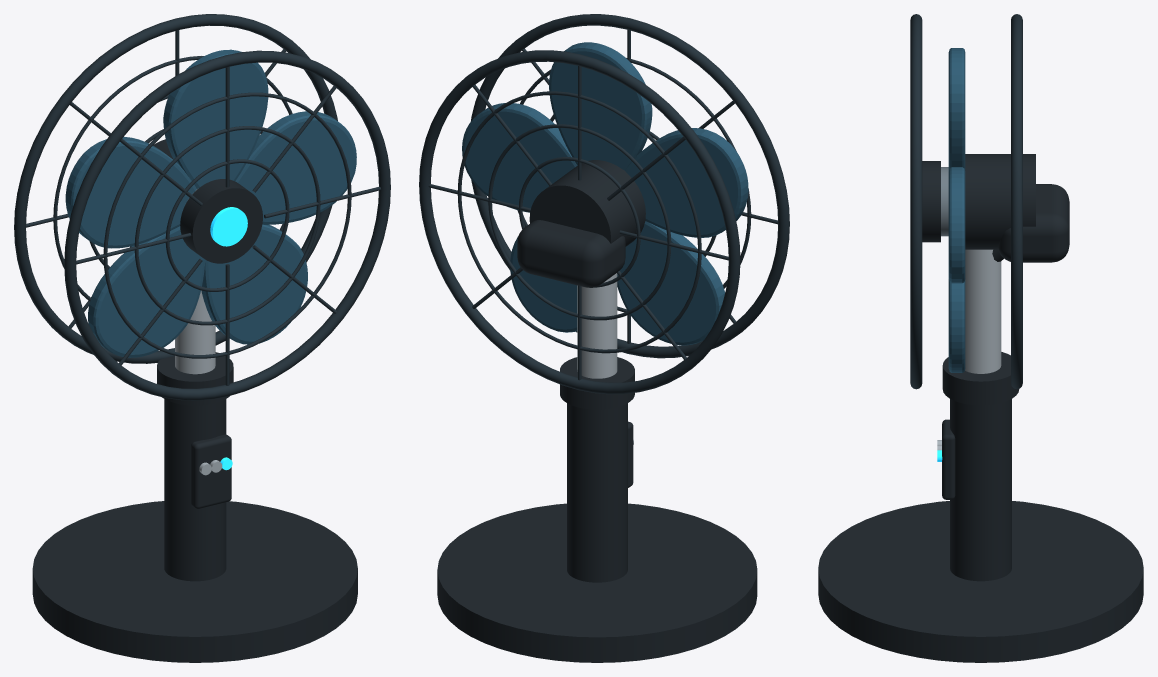
Rendered from standing-fan.glb.
3 views of the same model, side by side, from view 1: azimuth 30°, elevation 25°; view 2: azimuth 150°, elevation 25°; view 3: azimuth 270°, elevation 25° (orthographic).
Parts seen in each view (by area): view 1: Weighted fan base, Premium oscillating pedestal fan, Swept fan blade 4, Swept fan blade 2, Lower pedestal, Swept fan blade 3, Swept fan blade 1, Swept fan blade 5, Front centre cap, Fan control panel, Telescopic height pole, Height adjustment collar (+1 smaller); view 2: Weighted fan base, Premium oscillating pedestal fan, Lower pedestal, Swept fan blade 4, Swept fan blade 2, Swept fan blade 3, Swept fan blade 1, Fan motor hub, Oscillation motor housing, Telescopic height pole, Swept fan blade 5, Height adjustment collar; view 3: Weighted fan base, Lower pedestal, Premium oscillating pedestal fan, Fan motor hub, Telescopic height pole, Oscillation motor housing, Height adjustment collar, Swept fan blade 2, Swept fan blade 1, Swept fan blade 5, Front centre cap, Fan control panel (+1 smaller).
Boxes of the visible parts, x1,y1,x2,y2 form: Weighted fan base: (32,501,357,662); Premium oscillating pedestal fan: (14,14,390,400); Swept fan blade 4: (88,226,205,357); Swept fan blade 2: (163,49,268,188); Lower pedestal: (164,399,226,581); Swept fan blade 3: (65,137,196,248); Swept fan blade 1: (235,111,356,224); Swept fan blade 5: (201,224,307,344); Front centre cap: (180,179,262,263); Fan control panel: (191,434,231,508); Telescopic height pole: (175,290,215,374); Height adjustment collar: (157,352,233,405); Weighted fan base: (437,503,757,662); Premium oscillating pedestal fan: (419,14,789,394); Lower pedestal: (567,403,627,582); Swept fan blade 4: (617,221,725,345); Swept fan blade 2: (549,42,652,170); Swept fan blade 3: (625,128,748,237); Swept fan blade 1: (462,103,577,212); Fan motor hub: (529,160,645,246); Oscillation motor housing: (517,220,625,287); Telescopic height pole: (577,273,617,378); Swept fan blade 5: (510,236,577,332); Height adjustment collar: (560,357,634,409); Weighted fan base: (818,501,1143,662); Lower pedestal: (950,399,1011,581); Premium oscillating pedestal fan: (910,14,1022,389); Fan motor hub: (965,154,1035,249); Telescopic height pole: (965,249,1001,373); Oscillation motor housing: (998,184,1069,262); Height adjustment collar: (942,352,1019,405); Swept fan blade 2: (948,48,965,170); Swept fan blade 1: (948,167,965,283); Swept fan blade 5: (948,279,965,372); Front centre cap: (922,161,940,242); Fan control panel: (942,419,955,499).
Bounding box in the file's own units: 1.57 × 2.62 × 1.36.
